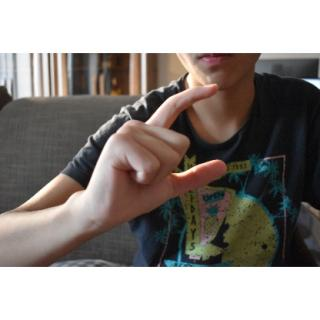DELL: (76, 78, 230, 223)
